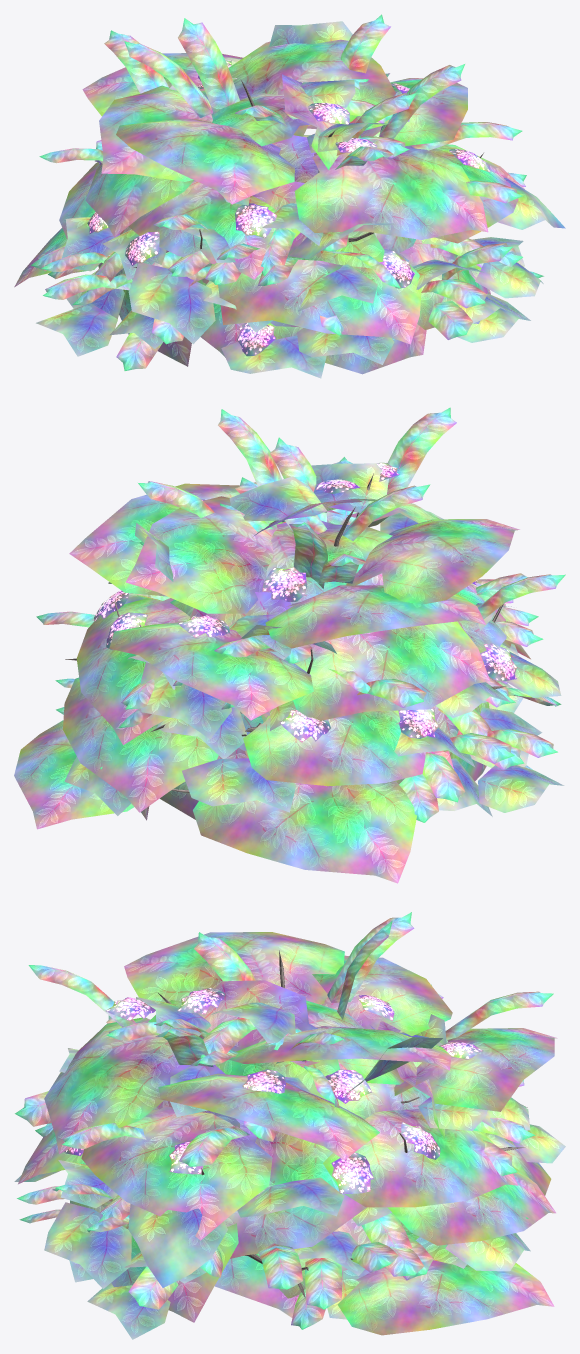
File: elderberry_small_SM.fbx
The picture shows the model from 3 angles, top to bottom: view 1: azimuth 30°, elevation 25°; view 2: azimuth 150°, elevation 25°; view 3: azimuth 270°, elevation 25°; orthographic projection. The views are drawn at different scales.
Visible parts, largest first — view 1: elderberry_small_SM_LOD0; view 2: elderberry_small_SM_LOD0; view 3: elderberry_small_SM_LOD0.
Part boxes in pixels (x1,y1,x2,y2): elderberry_small_SM_LOD0: (14,14,565,378); elderberry_small_SM_LOD0: (14,407,565,883); elderberry_small_SM_LOD0: (14,912,565,1339).
Size of the model in its own units: 358 by 324 by 211.
2 materials, 2 textured.
